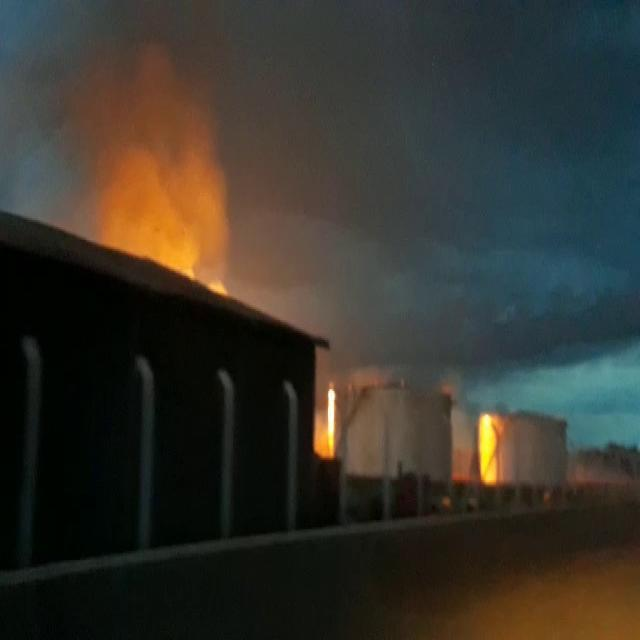Fire: (66, 40, 230, 302), (313, 378, 341, 462), (476, 410, 506, 482), (450, 454, 472, 486), (438, 375, 453, 396), (543, 483, 553, 511), (440, 498, 452, 511)
Smoke: (236, 11, 640, 360)
